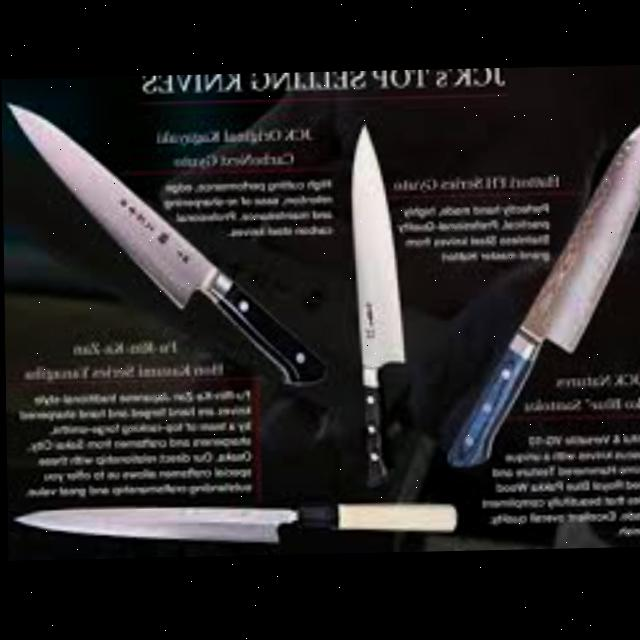Knife: (7, 95, 327, 393), (440, 110, 640, 469), (350, 121, 409, 489), (12, 500, 460, 548)
